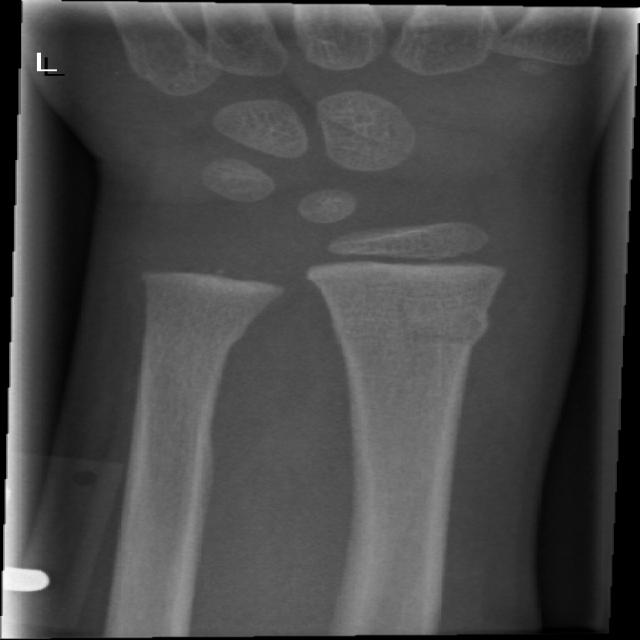radius fracture: (296, 293, 526, 374)
